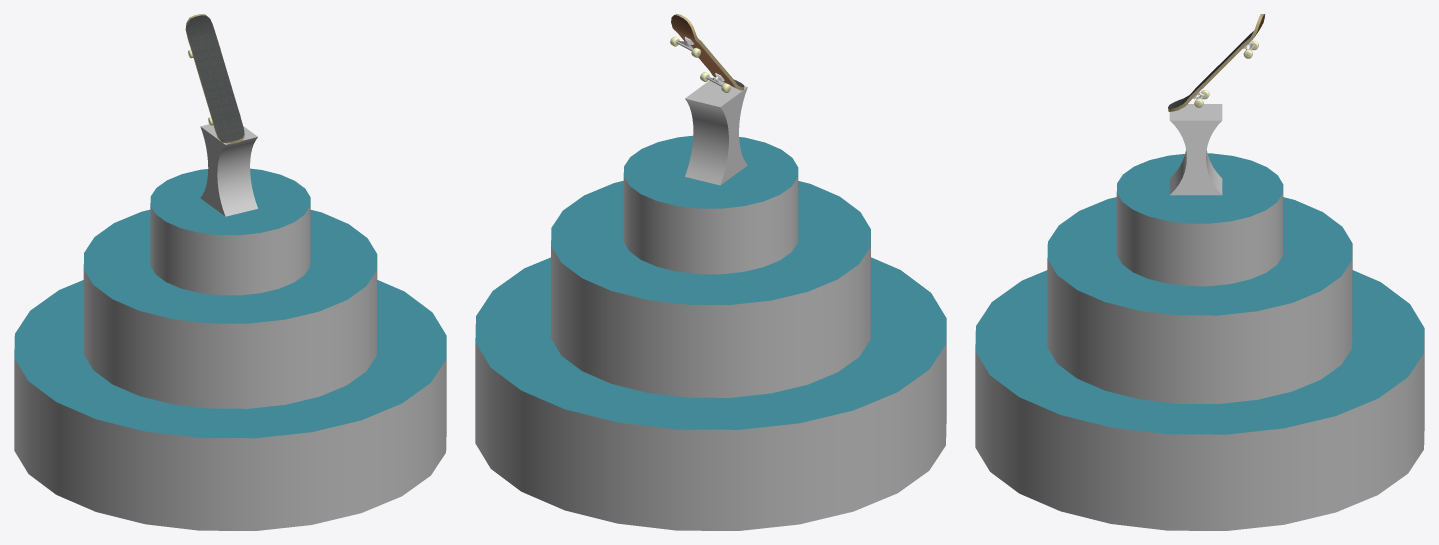
The picture shows the model from 3 angles, left to right: view 1: azimuth 30°, elevation 25°; view 2: azimuth 150°, elevation 25°; view 3: azimuth 270°, elevation 25°; orthographic projection. The views are drawn at different scales.
Parts seen in each view (by area): view 1: Model, Group1; view 2: Model, Group1; view 3: Model, Group1.
Boxes of the visible parts, x1=… form: Model: x1=14, y1=124, x2=446, y2=530; Group1: x1=185, y1=14, x2=244, y2=144; Model: x1=475, y1=80, x2=946, y2=530; Group1: x1=671, y1=14, x2=744, y2=90; Model: x1=975, y1=104, x2=1424, y2=530; Group1: x1=1168, y1=14, x2=1265, y2=111.
Bounding box in the file's own units: 362 × 373 × 362.
